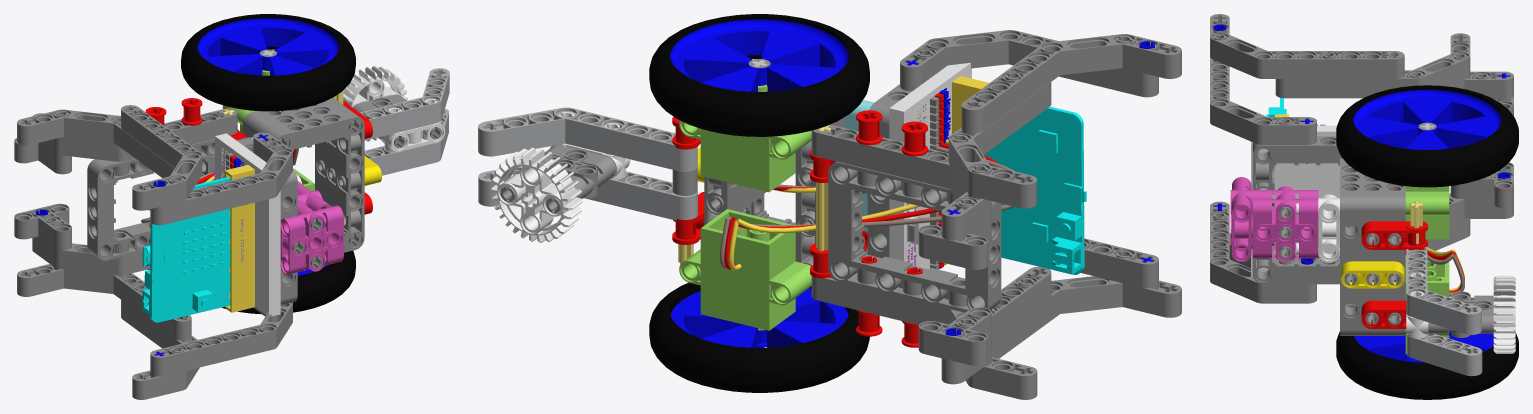
File: 23-0130-1720-RQ100_SpikePrime_OwenGervais-Assembly--25-1125-0640-Onshape_CoarseVsFine_Gltf--GltfDotReport_v1_Export-AAA_Less15mb.glb
The picture shows the model from 3 angles, left to right: view 1: azimuth 30°, elevation 25°; view 2: azimuth 150°, elevation 25°; view 3: azimuth 270°, elevation 25°; orthographic projection. The views are drawn at different scales.
Parts seen in each view (by area): view 1: Black Technic, Liftarm 1 x 11.5 Double Bent Thick (×8), Black Technic, Liftarm 5 x 7 Open Center Frame Thick (×5), RubberAndRim-Part 2 (×2), Part 1 (×3), mesh2912_mesh, Magenta Technic, Pin Connector Block, Liftarm 1 x 3 x 3 (×2), Black Technic, Liftarm 3 x 3 T-Shape Thick (×2), Part 226, Light Bluish Gray Technic, Gear 28 Tooth Double Bevel, Spoke_Clone-Part 6, Light Bluish Gray Technic, Pin Connector Perpendicular 3L wi, Spoke_Original-Part 3 (+5 smaller); view 2: Black Technic, Liftarm 1 x 11.5 Double Bent Thick (×8), RubberAndRim-Part 2 (×2), Black Technic, Liftarm 5 x 7 Open Center Frame Thick (×3), Part 1 (×5), mesh2912_mesh, Part 3 (×2), Light Bluish Gray Technic, Gear 28 Tooth Double Bevel, Black Technic, Liftarm 3 x 3 T-Shape Thick (×2), Green Technic, Brick 2 x 4 with 3 Axle Holes (×2), Magenta Technic, Liftarm 1 x 5 Thick (×2), Spoke_Clone-Part 6 (×2), Spoke_Clone-Part 4 (×2) (+11 smaller); view 3: Black Technic, Liftarm 1 x 11.5 Double Bent Thick (×7), RubberAndRim-Part 2 (×2), Black Technic, Liftarm 5 x 7 Open Center Frame Thick (×4), Part 1 (×5), Magenta Technic, Pin Connector Block, Liftarm 1 x 3 x 3 (×3), Spoke_Original-Part 3 (×2), Light Bluish Gray Technic, Pin Connector Perpendicular 3L wi (×2), Light Bluish Gray Technic, Gear 28 Tooth Double Bevel, Spoke_Clone-Part 5 (×2), Black Technic, Liftarm 3 x 3 T-Shape Thick, Part 3 (×2), Yellow Technic, Liftarm 1 x 3 Thick (+5 smaller).
Part boxes in pixels (x1,y1,x2,y2): Black Technic, Liftarm 1 x 11.5 Double Bent Thick (×8): (17,105,292,399); Black Technic, Liftarm 5 x 7 Open Center Frame Thick (×5): (87,98,364,304); RubberAndRim-Part 2 (×2): (181,14,355,314); Part 1 (×3): (215,68,449,316); mesh2912_mesh: (142,177,230,322); Magenta Technic, Pin Connector Block, Liftarm 1 x 3 x 3 (×2): (280,182,343,274); Black Technic, Liftarm 3 x 3 T-Shape Thick (×2): (14,138,71,250); Part 226: (225,165,254,312); Light Bluish Gray Technic, Gear 28 Tooth Double Bevel: (343,66,407,141); Spoke_Clone-Part 6: (274,33,328,68); Light Bluish Gray Technic, Pin Connector Perpendicular 3L wi: (381,99,445,152); Spoke_Original-Part 3: (220,28,267,55); Black Technic, Liftarm 1 x 11.5 Double Bent Thick (×8): (811,30,1181,399); RubberAndRim-Part 2 (×2): (649,14,869,392); Black Technic, Liftarm 5 x 7 Open Center Frame Thick (×3): (704,84,1001,312); Part 1 (×5): (478,63,971,278); mesh2912_mesh: (984,106,1084,274); Part 3 (×2): (700,147,795,273); Light Bluish Gray Technic, Gear 28 Tooth Double Bevel: (490,147,582,242); Black Technic, Liftarm 3 x 3 T-Shape Thick (×2): (918,217,991,365); Green Technic, Brick 2 x 4 with 3 Axle Holes (×2): (700,129,795,301); Magenta Technic, Liftarm 1 x 5 Thick (×2): (679,120,803,305); Spoke_Clone-Part 6 (×2): (684,38,752,338); Spoke_Clone-Part 4 (×2): (767,64,834,347); Black Technic, Liftarm 1 x 11.5 Double Bent Thick (×7): (1210,14,1513,303); RubberAndRim-Part 2 (×2): (1336,85,1518,399); Black Technic, Liftarm 5 x 7 Open Center Frame Thick (×4): (1252,136,1405,335); Part 1 (×5): (1251,125,1482,376); Magenta Technic, Pin Connector Block, Liftarm 1 x 3 x 3 (×3): (1230,177,1318,261); Spoke_Original-Part 3 (×2): (1364,116,1490,360); Light Bluish Gray Technic, Pin Connector Perpendicular 3L wi (×2): (1296,194,1428,338); Light Bluish Gray Technic, Gear 28 Tooth Double Bevel: (1493,275,1515,353); Spoke_Clone-Part 5 (×2): (1364,116,1490,352); Black Technic, Liftarm 3 x 3 T-Shape Thick: (1450,162,1513,208); Part 3 (×2): (1405,215,1449,299); Yellow Technic, Liftarm 1 x 3 Thick: (1341,261,1404,288).
Size of the model in its own units: 0.1865 by 0.0971 by 0.1095.
